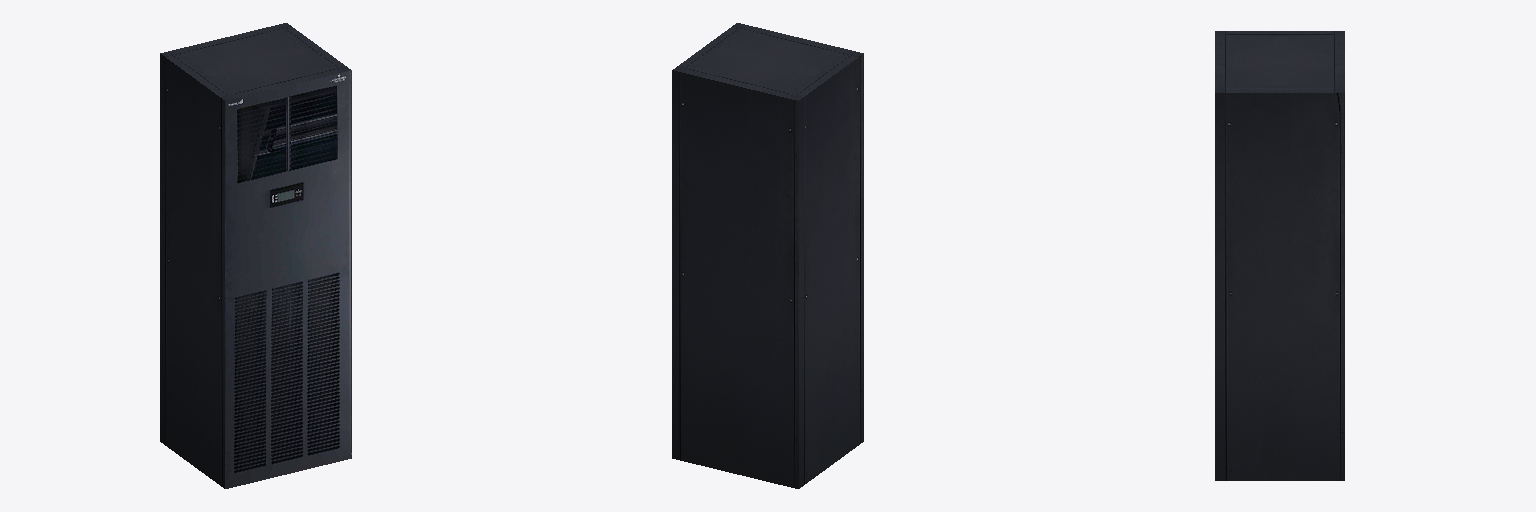
3 renders of one model, left to right at view 1: azimuth 30°, elevation 25°; view 2: azimuth 150°, elevation 25°; view 3: azimuth 270°, elevation 25°, orthographic.
Parts seen in each view (by area): view 1: jifangkongtiao; view 2: jifangkongtiao; view 3: jifangkongtiao.
Part boxes in pixels (bbox=[...]): jifangkongtiao: bbox=[160, 23, 351, 488]; jifangkongtiao: bbox=[672, 23, 863, 488]; jifangkongtiao: bbox=[1215, 31, 1344, 480].
Bounding box in the file's own units: 65.02 × 191 × 57.98.
1 materials, 1 textured.